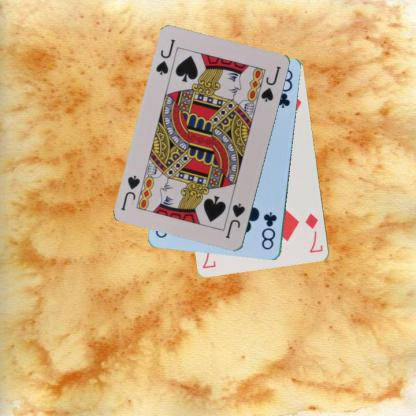7d: (303, 211, 324, 254)
8c: (259, 210, 278, 251)
Js: (153, 36, 177, 77), (223, 200, 247, 240)
